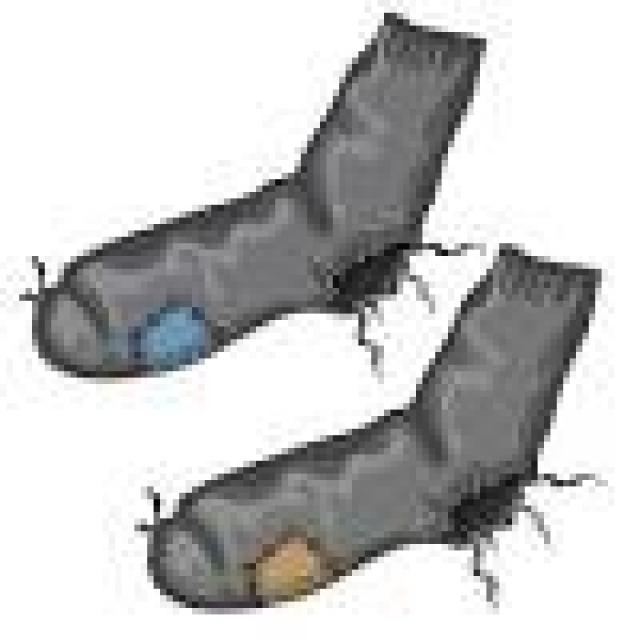Clothes -Biodegradable-: (145, 246, 598, 606), (36, 17, 482, 378)
